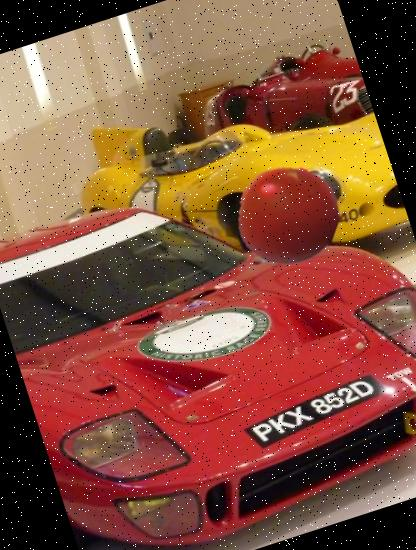Tomato: (224, 152, 350, 278)
